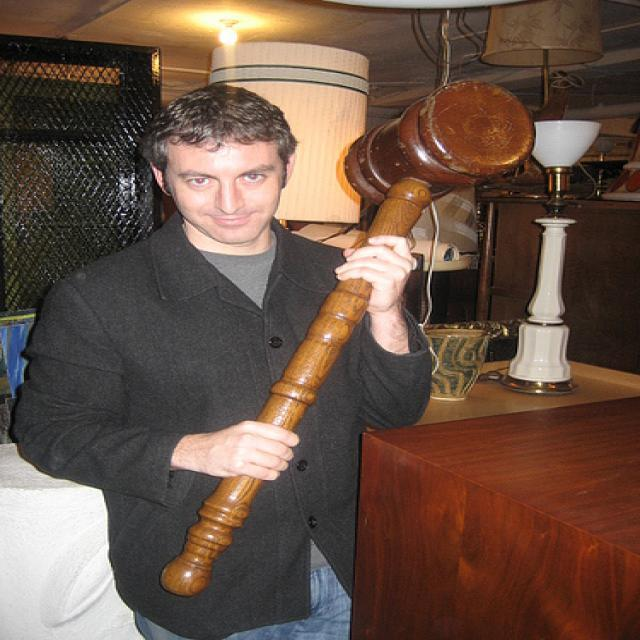hammer: (152, 71, 548, 604)
